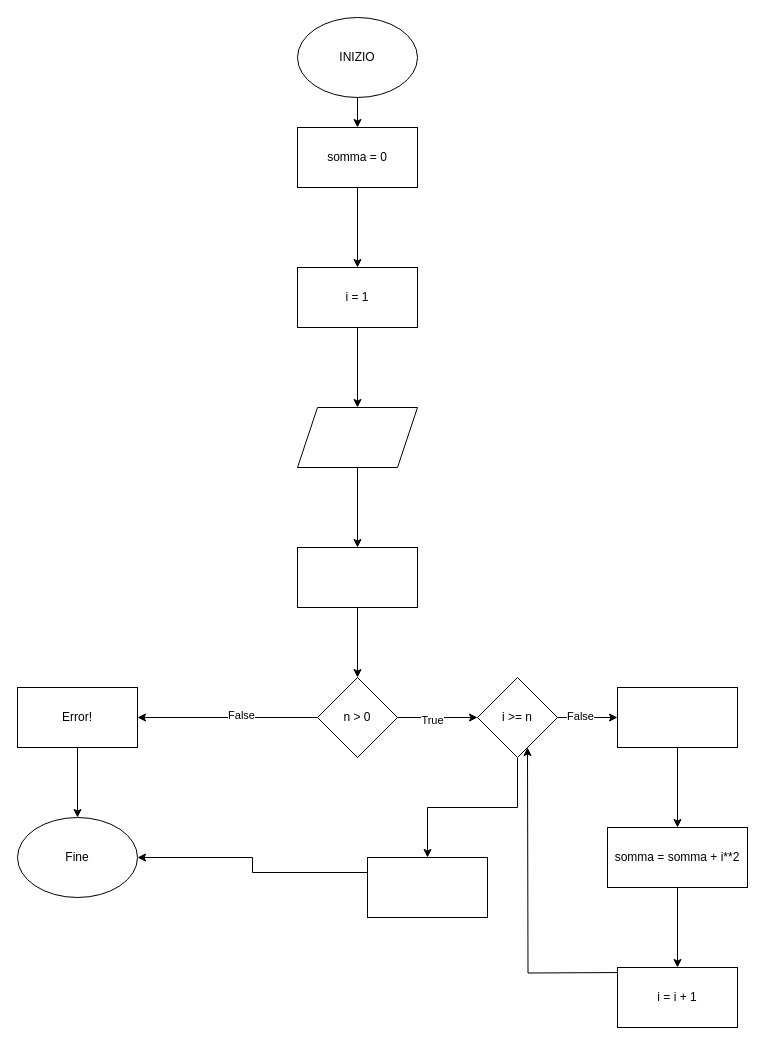
This 765x1045 diagram has some shape labels left out. Here are the shapes that lost their labels. From the top down, the centre of each, then its label:
pixel 357 437: inserisci "n"
pixel 357 577: read n
pixel 677 717: i **2
pixel 427 887: read somma
